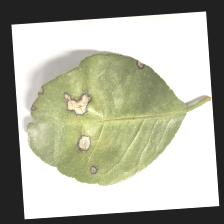canker: (37, 54, 111, 174)
